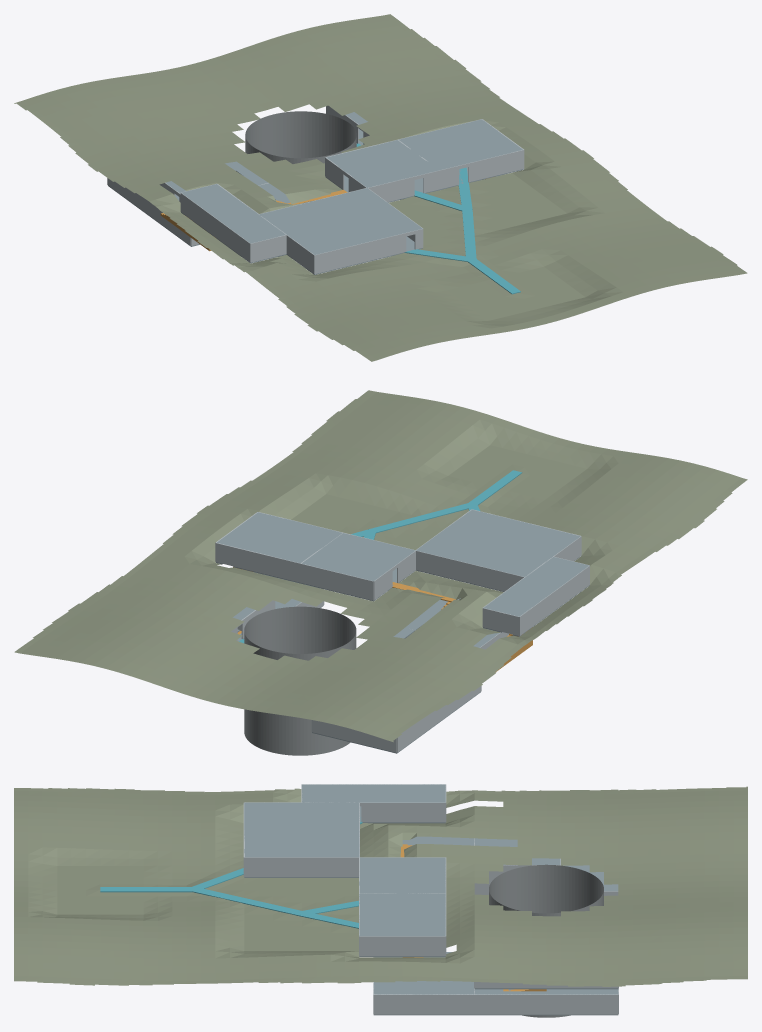
The model's file is furnished.glb.
3 views of the same model, one above another, from view 1: azimuth 30°, elevation 25°; view 2: azimuth 150°, elevation 25°; view 3: azimuth 270°, elevation 25° (orthographic). The views are drawn at different scales.
Visible parts, largest first — view 1: Saved editor terrain WLD-18, Ceiling cap servicehouse, EMPTY SHAFT / guard engineering pending, Ceiling cap shop, Ceiling cap head, Ceiling cap exit, Wall servicehouse S, Wall exit W, Wall shop S.001, Wall head S, Wall exit S, Wall servicehouse W.001; view 2: Saved editor terrain WLD-18, EMPTY SHAFT / guard engineering pending, Ceiling cap servicehouse, Ceiling cap shop, Ceiling cap head, Ceiling cap exit, Wall servicehouse N, Wall shop N, Wall head N, Wall exit W, Wall pump N, Wall exit N (+2 smaller); view 3: Saved editor terrain WLD-18, Ceiling cap servicehouse, EMPTY SHAFT / guard engineering pending, Ceiling cap shop, Ceiling cap head, Wall east E, Ceiling cap exit, Wall servicehouse E, Wall plant E, Wall shop E, Wall exit E, Ceiling cap plant (+4 smaller).
Boxes of the visible parts, box(x1,y1,x2,y2) form: Saved editor terrain WLD-18: box(14, 14, 747, 361); Ceiling cap servicehouse: box(259, 188, 422, 254); EMPTY SHAFT / guard engineering pending: box(245, 111, 356, 256); Ceiling cap shop: box(399, 119, 522, 170); Ceiling cap head: box(326, 140, 438, 187); Ceiling cap exit: box(181, 184, 285, 243); Wall servicehouse S: box(314, 233, 406, 273); Wall exit W: box(180, 193, 250, 262); Wall shop S.001: box(468, 149, 524, 182); Wall head S: box(368, 176, 414, 201); Wall exit S: box(250, 234, 286, 262); Wall servicehouse W.001: box(264, 218, 314, 273); Saved editor terrain WLD-18: box(14, 390, 747, 742); EMPTY SHAFT / guard engineering pending: box(244, 606, 356, 755); Ceiling cap servicehouse: box(416, 509, 580, 576); Ceiling cap shop: box(217, 512, 341, 563); Ceiling cap head: box(302, 533, 415, 581); Ceiling cap exit: box(483, 557, 589, 616); Wall servicehouse N: box(416, 550, 523, 591); Wall shop N: box(215, 542, 300, 582); Wall head N: box(300, 563, 373, 600); Wall exit W: box(519, 565, 589, 635); Wall pump N: box(311, 720, 396, 752); Wall exit N: box(482, 608, 519, 635); Saved editor terrain WLD-18: box(14, 786, 747, 986); Ceiling cap servicehouse: box(244, 802, 359, 857); EMPTY SHAFT / guard engineering pending: box(489, 864, 603, 1017); Ceiling cap shop: box(359, 894, 445, 936); Ceiling cap head: box(359, 857, 445, 893); Wall east E: box(474, 994, 618, 1014); Ceiling cap exit: box(302, 784, 445, 802); Wall servicehouse E: box(244, 857, 358, 877); Wall plant E: box(373, 994, 474, 1014); Wall shop E: box(359, 936, 445, 956); Wall exit E: box(361, 802, 445, 822); Ceiling cap plant: box(373, 952, 474, 994).
Size of the model in its own units: 64 by 19 by 102.
